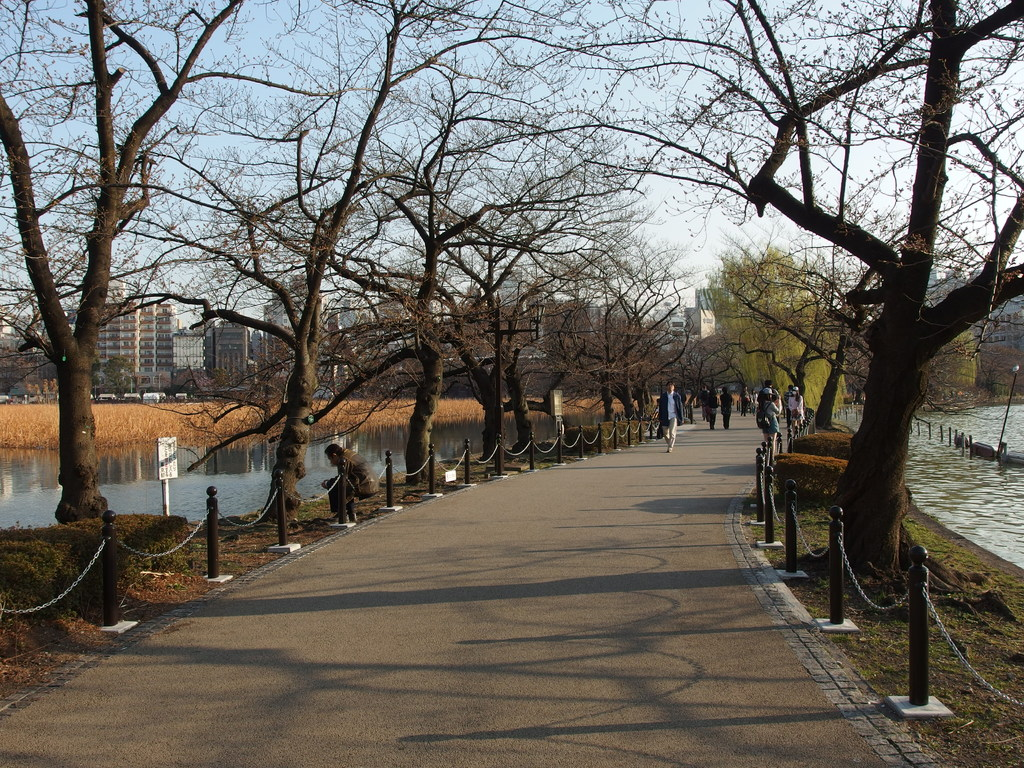Tree: (0, 0, 1023, 580)
